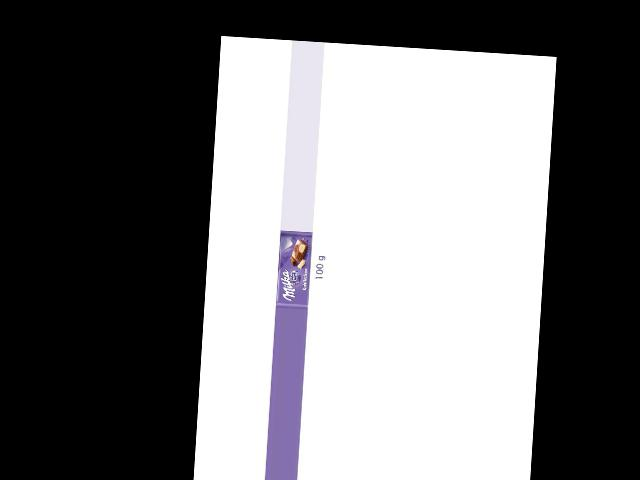chocolate: (275, 229, 314, 309)
